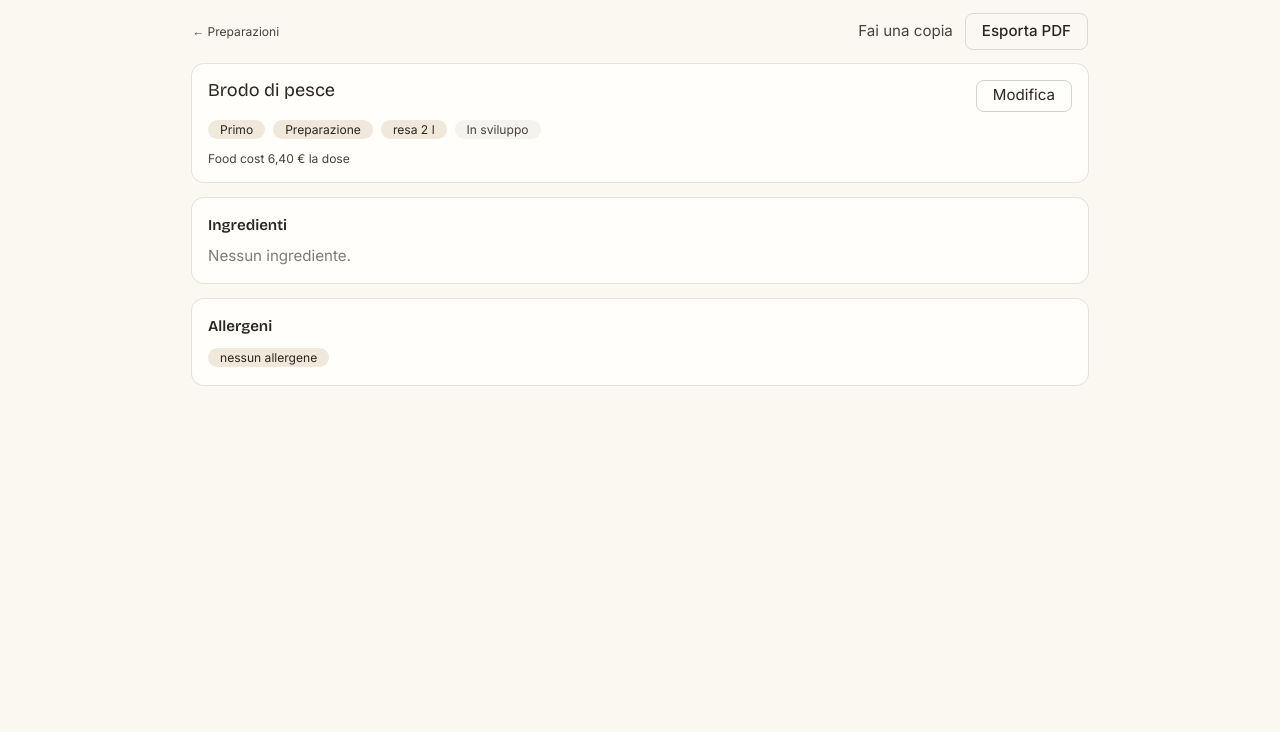
Test case: 🔴 gli stati dicono che cosa è la scheda › preparazione: niente «Pronta per la carta» né «In carta», e i suoi tre stati
The image size is (1280, 732).
Click the button "Modifica". click: (1024, 96)
box: [976,80,1072,112]
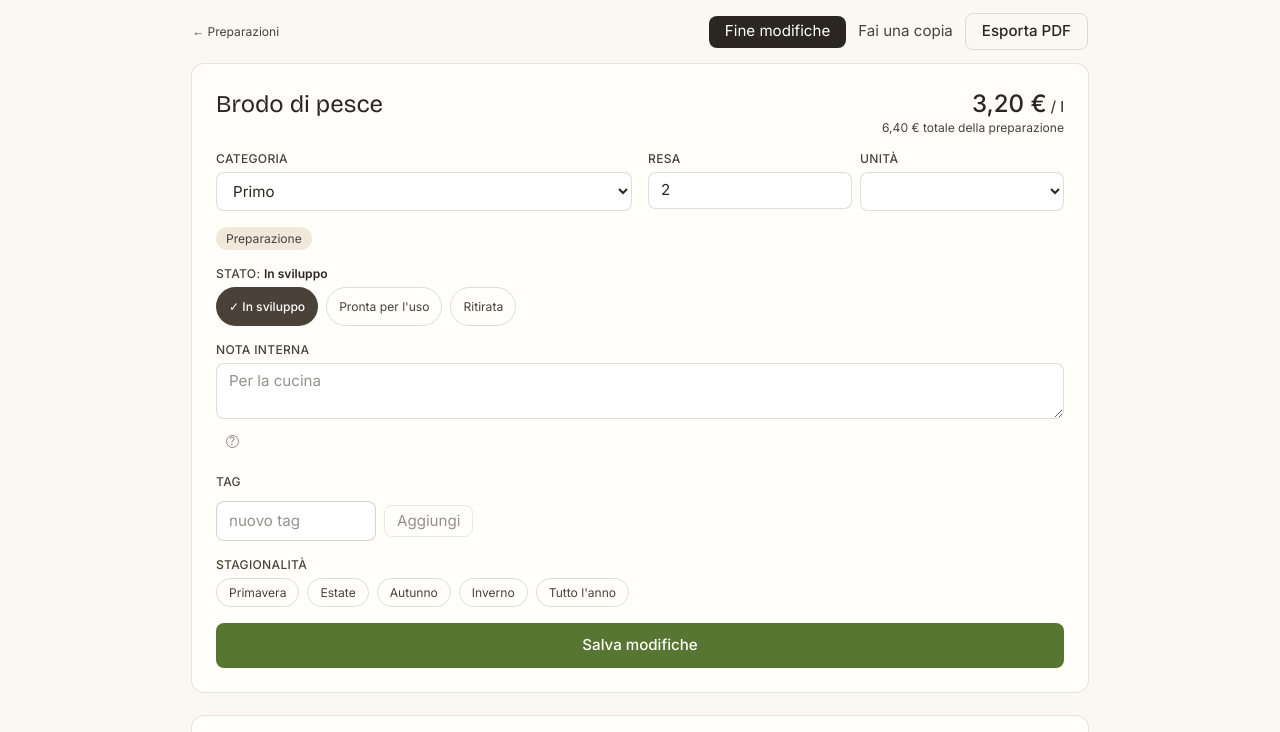
expect the text "Stato: In sviluppo" is shown: met, box [216,266,328,281]
